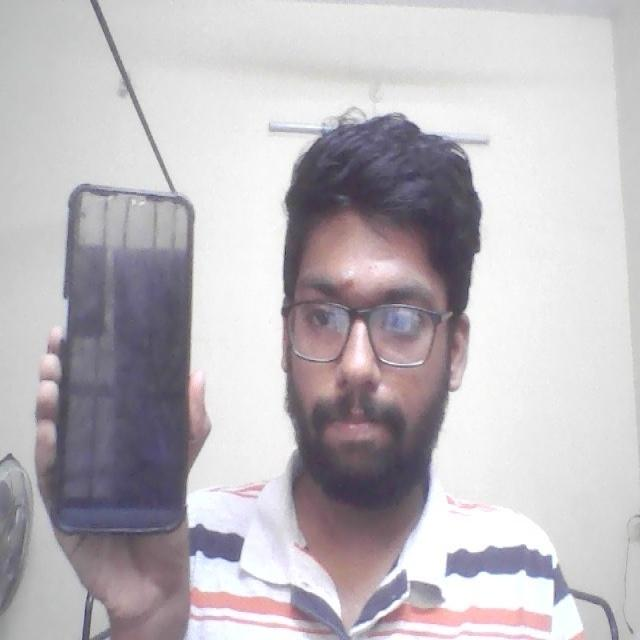Mobile: (48, 178, 201, 539)
